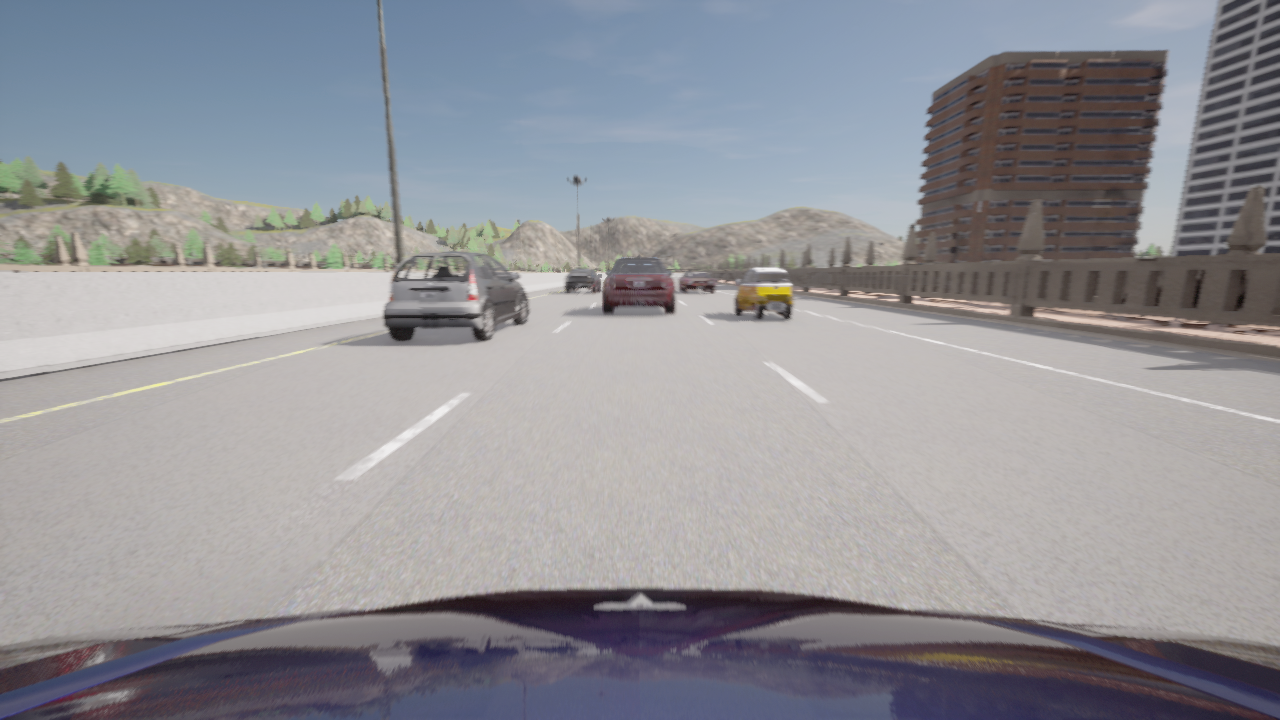cyclist: (0, 588, 1279, 719), (382, 251, 528, 341), (603, 255, 674, 313), (735, 267, 793, 319), (565, 268, 601, 292), (679, 272, 716, 293)
